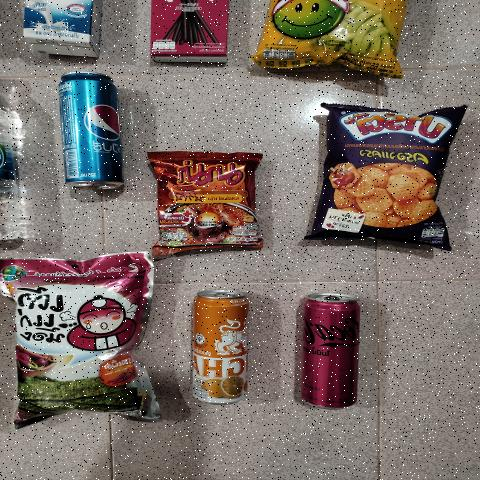coke_red: (299, 294, 358, 413)
mama: (154, 153, 257, 245)
party_purple: (333, 110, 439, 242)
pepsi_blue: (52, 71, 123, 185)
singha_yellow: (187, 295, 253, 407)
taokaenoi: (11, 258, 149, 422)
